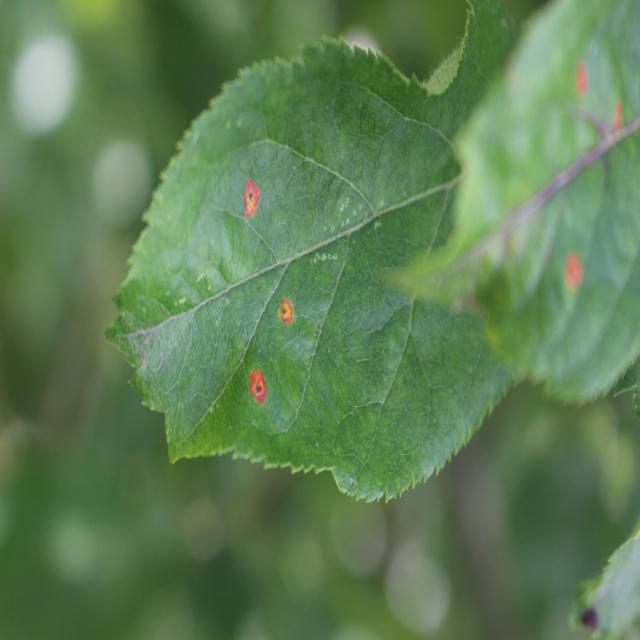Rust: (266, 283, 300, 347), (562, 233, 594, 300), (569, 47, 602, 111), (235, 170, 266, 237), (246, 358, 271, 422)
